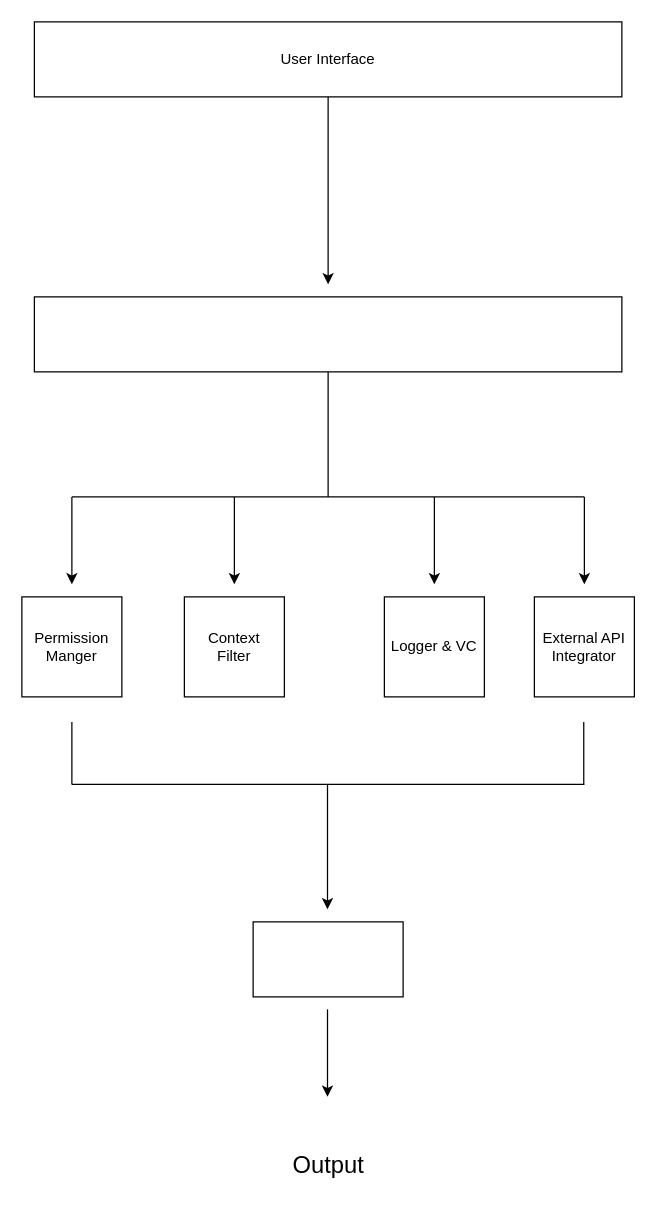
This 656x1231 diagram has some shape labels left out. Here are the shapes that lost their labels. From the top down, the box of each, then its label:
(33, 296, 622, 372): Memory Hub
(252, 921, 403, 997): AI
